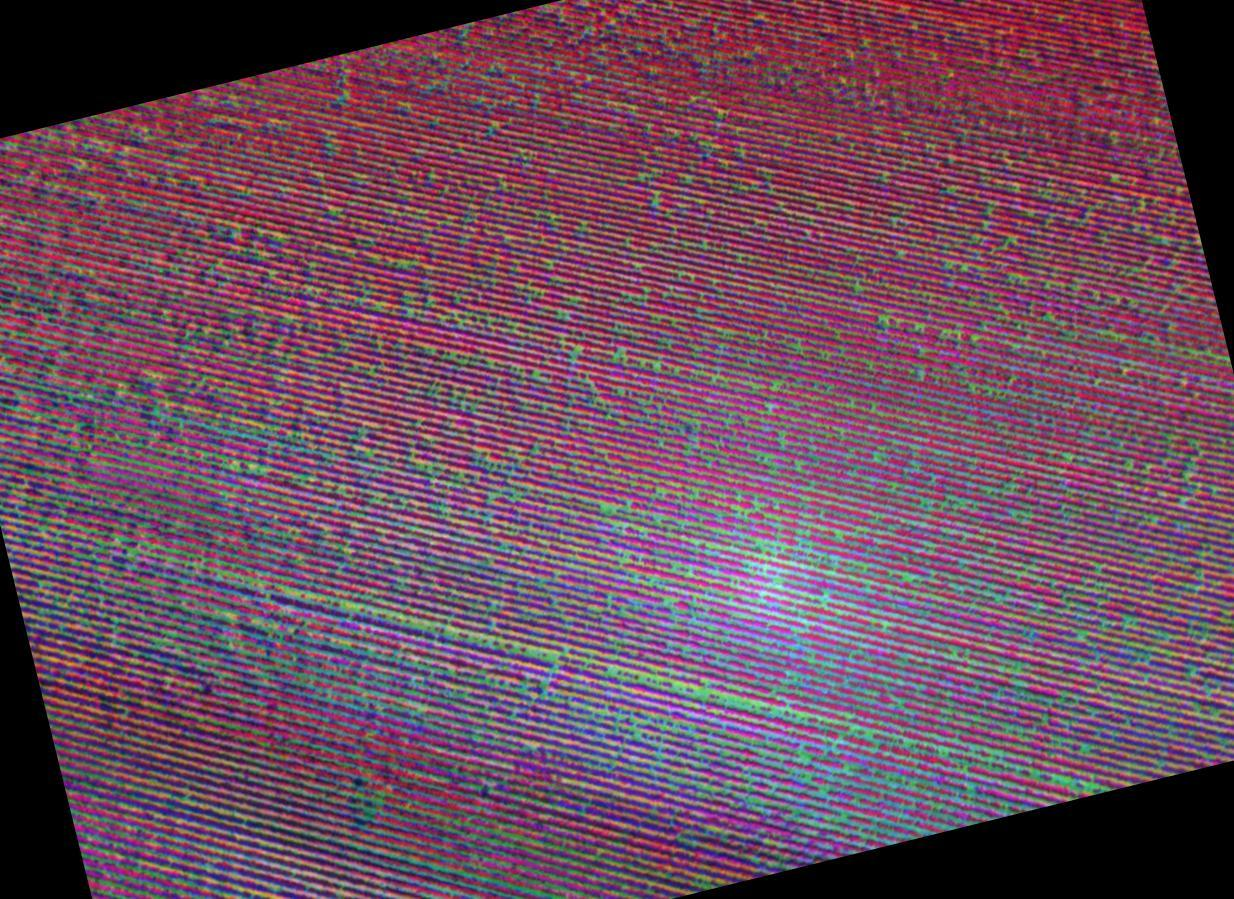dc: (43, 528, 159, 664), (646, 683, 778, 785), (216, 578, 323, 699), (408, 628, 510, 736), (831, 728, 917, 817), (726, 548, 804, 634)
